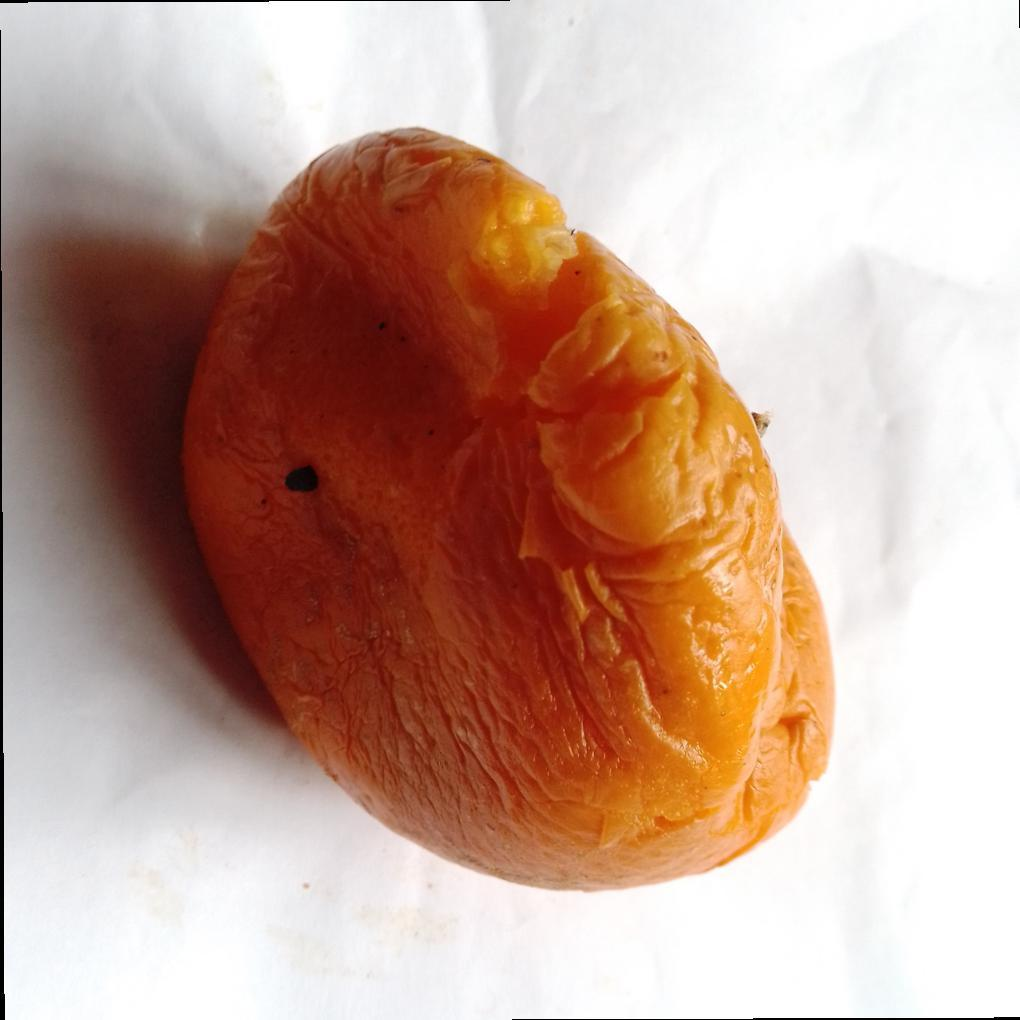FreshOrange: (179, 127, 838, 896)
